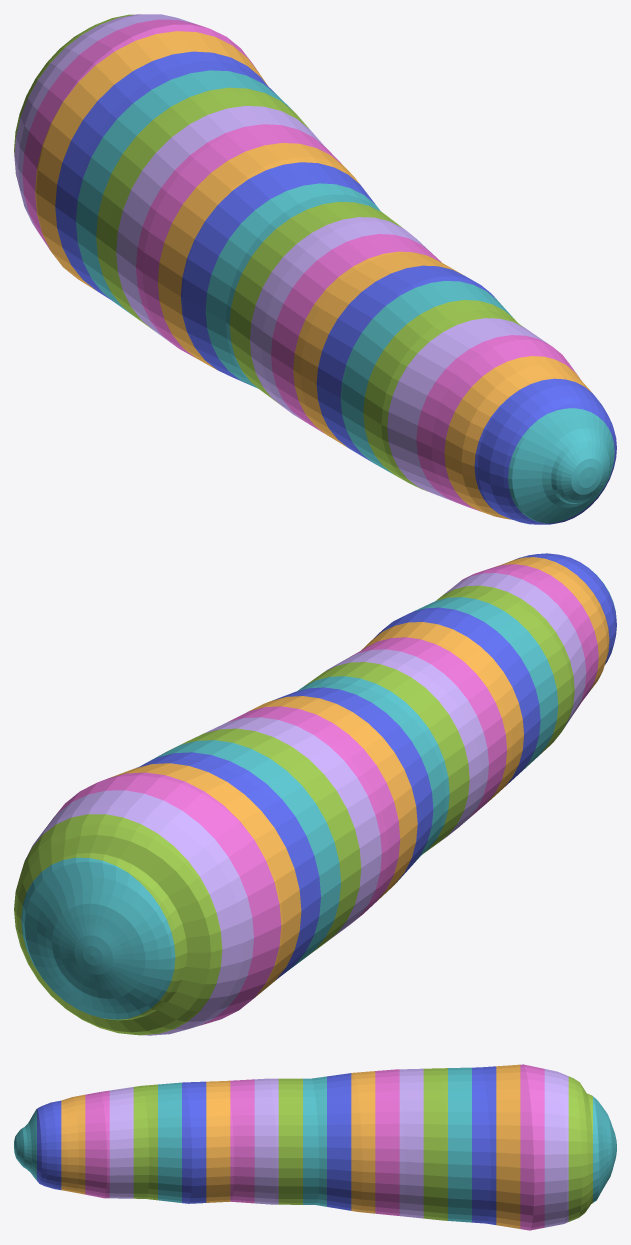
The model's file is VB_Pancreas 22x4 cut and colored.fbx.
3 renders of one model, top to bottom at view 1: azimuth 30°, elevation 25°; view 2: azimuth 150°, elevation 25°; view 3: azimuth 270°, elevation 25°, orthographic. The views are drawn at different scales.
Parts seen in each view (by area): view 1: CLR_14D, PCMC_21D, CLR_20B_2, FCMC_16D, PCMC_15D, PE_19D, RNA_18D, FF_17D, PE_13D, FF_5D, FCMC_10D, FF_11D (+46 smaller); view 2: PE_25, RNA_24D, FF_23D, FCMC_22D, PE_19D, RNA_18D, PCMC_21D, FF_17D, CLR_20B_2, RNA_24C, RNA_24A, FCMC_16D (+30 smaller); view 3: FCMC_22A, PCMC_21A, FF_23A, CLR_20A, RNA_18A, PE_19A, FF_17A, FCMC16A, RNA_24A, PCMC_15A, CLR_14A, RNA_12A (+53 smaller).
Boxes of the visible parts, x1,y1,x2,y2 form: CLR_14D: [181, 162, 321, 310]; PCMC_21D: [35, 34, 177, 206]; CLR_20B_2: [55, 53, 197, 221]; FCMC_16D: [136, 124, 280, 281]; PCMC_15D: [158, 143, 300, 296]; PE_19D: [76, 72, 218, 236]; RNA_18D: [96, 89, 238, 251]; FF_17D: [116, 106, 259, 266]; PE_13D: [205, 183, 342, 324]; FF_5D: [387, 318, 506, 439]; FCMC_10D: [271, 234, 403, 369]; FF_11D: [250, 217, 383, 354]; PE_25: [21, 857, 175, 1019]; RNA_24D: [106, 818, 222, 956]; FF_23D: [125, 794, 253, 949]; FCMC_22D: [145, 775, 281, 937]; PE_19D: [204, 741, 340, 896]; RNA_18D: [224, 729, 361, 882]; PCMC_21D: [165, 765, 301, 925]; FF_17D: [244, 717, 381, 867]; CLR_20B_2: [185, 754, 320, 910]; RNA_24C: [108, 949, 222, 1035]; RNA_24A: [14, 814, 124, 919]; FCMC_16D: [263, 706, 400, 853]; FCMC_22A: [520, 1072, 544, 1182]; PCMC_21A: [496, 1072, 520, 1181]; FF_23A: [544, 1075, 568, 1181]; CLR_20A: [472, 1075, 496, 1178]; RNA_18A: [423, 1078, 447, 1176]; PE_19A: [448, 1077, 471, 1177]; FF_17A: [399, 1080, 423, 1174]; FCMC16A: [375, 1081, 399, 1173]; RNA_24A: [568, 1081, 592, 1179]; PCMC_15A: [351, 1083, 375, 1172]; CLR_14A: [327, 1086, 351, 1170]; RNA_12A: [278, 1091, 302, 1168].
Size of the model in its own units: 4960 by 4942 by 17868.
